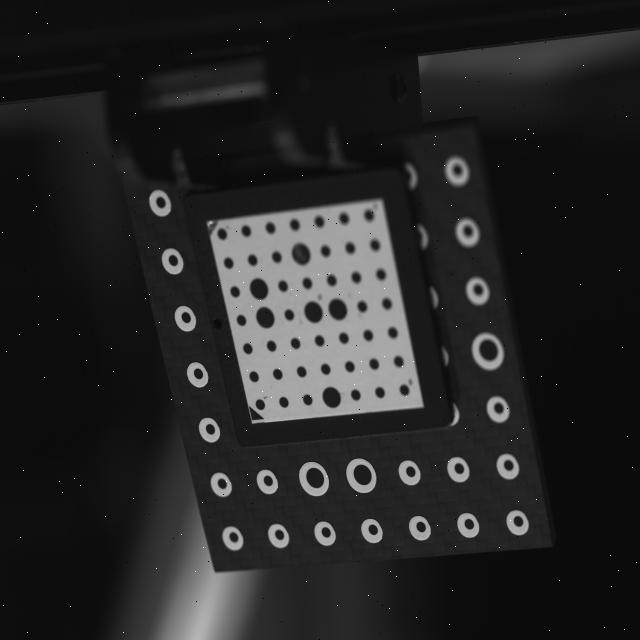circle point: (306, 468, 324, 488), (354, 465, 372, 485), (256, 308, 274, 328), (304, 302, 322, 322), (322, 388, 340, 408), (480, 341, 497, 361), (329, 300, 346, 320), (251, 280, 267, 300), (294, 245, 310, 264), (249, 371, 259, 382), (273, 368, 283, 379), (368, 525, 378, 535), (416, 522, 426, 532), (406, 467, 416, 477), (464, 519, 474, 529), (256, 400, 266, 410), (279, 398, 289, 408), (351, 390, 361, 400), (297, 367, 306, 378), (231, 286, 239, 298), (322, 528, 331, 538), (194, 369, 203, 379), (182, 312, 191, 322), (264, 476, 273, 486), (514, 516, 523, 526), (237, 316, 246, 326), (267, 341, 276, 351), (315, 336, 324, 346), (321, 364, 330, 374), (276, 530, 284, 540), (218, 479, 226, 489), (170, 256, 178, 266), (157, 198, 165, 208), (455, 464, 463, 474), (495, 404, 503, 414), (244, 344, 252, 354), (285, 310, 293, 320), (304, 395, 312, 405), (292, 338, 300, 348), (346, 362, 354, 372), (376, 388, 384, 398), (370, 360, 378, 370), (340, 334, 348, 344), (364, 330, 372, 340), (389, 328, 397, 338), (358, 302, 366, 312), (272, 252, 280, 262), (279, 282, 287, 292), (304, 279, 312, 289), (328, 276, 336, 286), (230, 533, 238, 542), (505, 461, 513, 470), (225, 259, 233, 268), (249, 256, 257, 265), (266, 224, 274, 233), (207, 424, 214, 434), (401, 386, 408, 396), (395, 358, 403, 366), (218, 230, 226, 238), (352, 274, 360, 282), (377, 271, 385, 279), (383, 300, 391, 308), (475, 286, 482, 294), (242, 228, 250, 235), (291, 221, 298, 229), (322, 247, 329, 255), (346, 245, 354, 252), (316, 218, 323, 226), (340, 215, 348, 222), (372, 241, 379, 249), (465, 228, 471, 235), (366, 213, 372, 219)
white circle: (346, 458, 376, 493), (299, 462, 329, 496), (473, 334, 503, 368), (174, 306, 197, 332), (198, 417, 220, 443), (162, 248, 184, 274), (399, 460, 421, 486), (507, 510, 529, 536), (210, 472, 232, 497), (409, 516, 431, 541), (448, 457, 470, 482), (458, 513, 480, 538), (497, 454, 519, 479), (488, 397, 510, 422), (187, 362, 208, 388), (447, 158, 468, 184), (222, 526, 244, 550), (314, 522, 336, 546), (256, 470, 278, 494), (361, 519, 383, 543), (150, 190, 170, 216), (268, 524, 288, 548), (468, 279, 488, 303), (458, 221, 478, 244)
